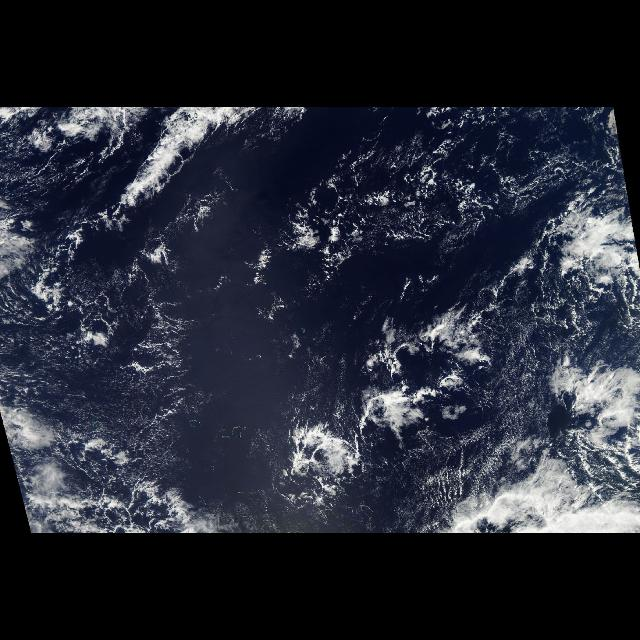Fish: (0, 108, 316, 276)
Flower: (260, 302, 488, 510)
Gravel: (1, 222, 228, 534), (332, 108, 568, 282)
Sugar: (0, 317, 260, 449), (362, 120, 598, 228), (474, 262, 562, 474)
